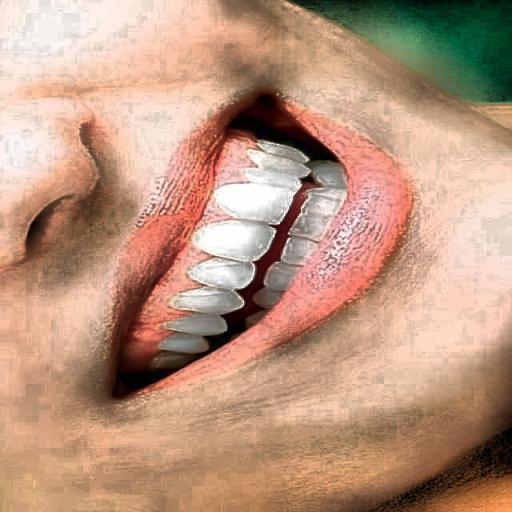Healthy: (132, 110, 406, 359)
